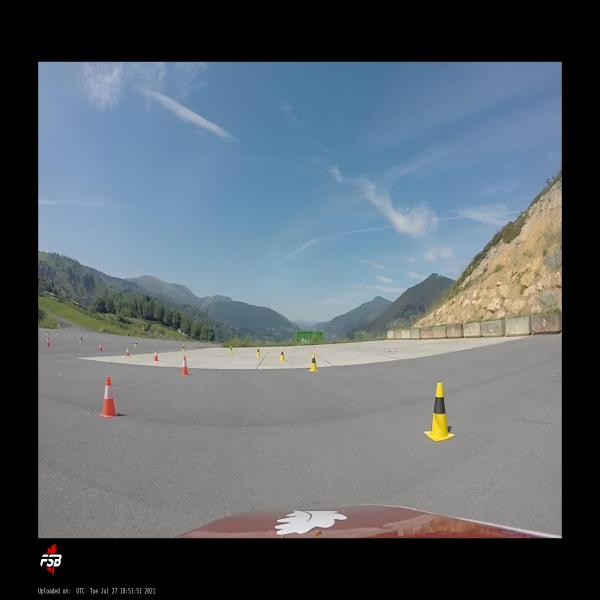orange_cone: (98, 376, 119, 419), (180, 355, 190, 376), (153, 348, 159, 362), (125, 347, 130, 357), (46, 338, 51, 347), (181, 344, 186, 352), (99, 342, 103, 352)
yellow_cone: (424, 382, 455, 442), (309, 353, 319, 371), (279, 348, 285, 361), (181, 344, 186, 352), (256, 346, 260, 356), (78, 335, 82, 344), (229, 345, 233, 354), (134, 341, 138, 348), (46, 331, 49, 336)
